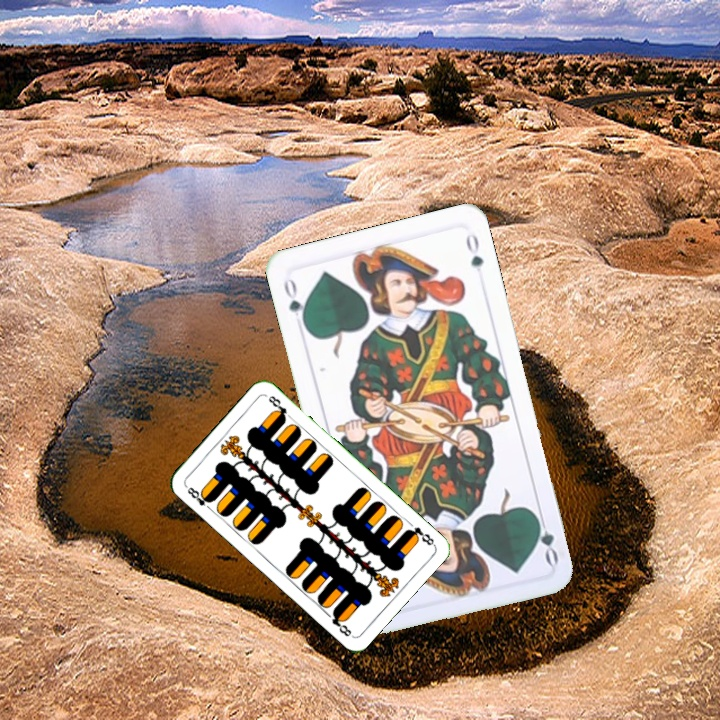E8: (183, 483, 215, 513), (402, 523, 437, 548)
GO: (530, 508, 561, 567), (279, 273, 309, 330)
